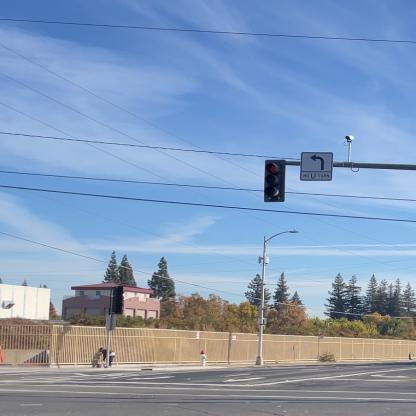left-red: (262, 158, 288, 203)
